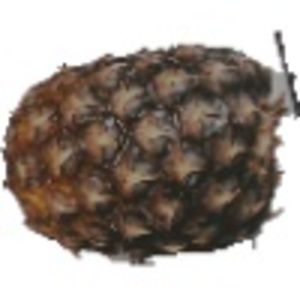abacaxi: (2, 38, 283, 257)
